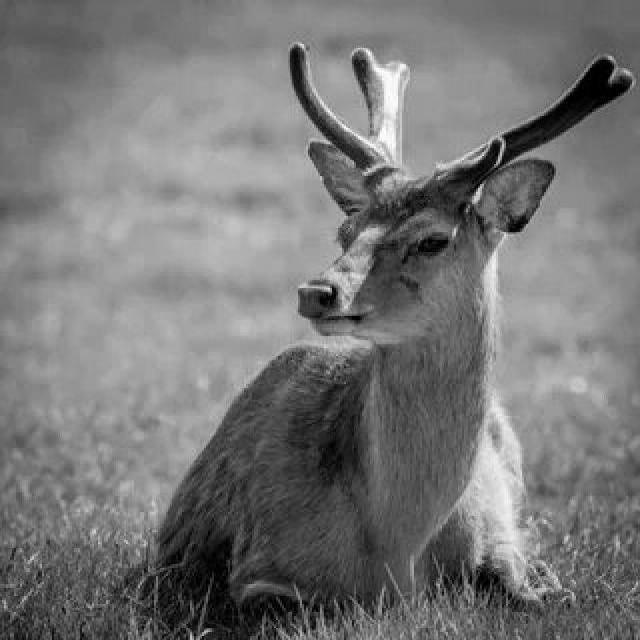deer: (32, 7, 618, 585)
